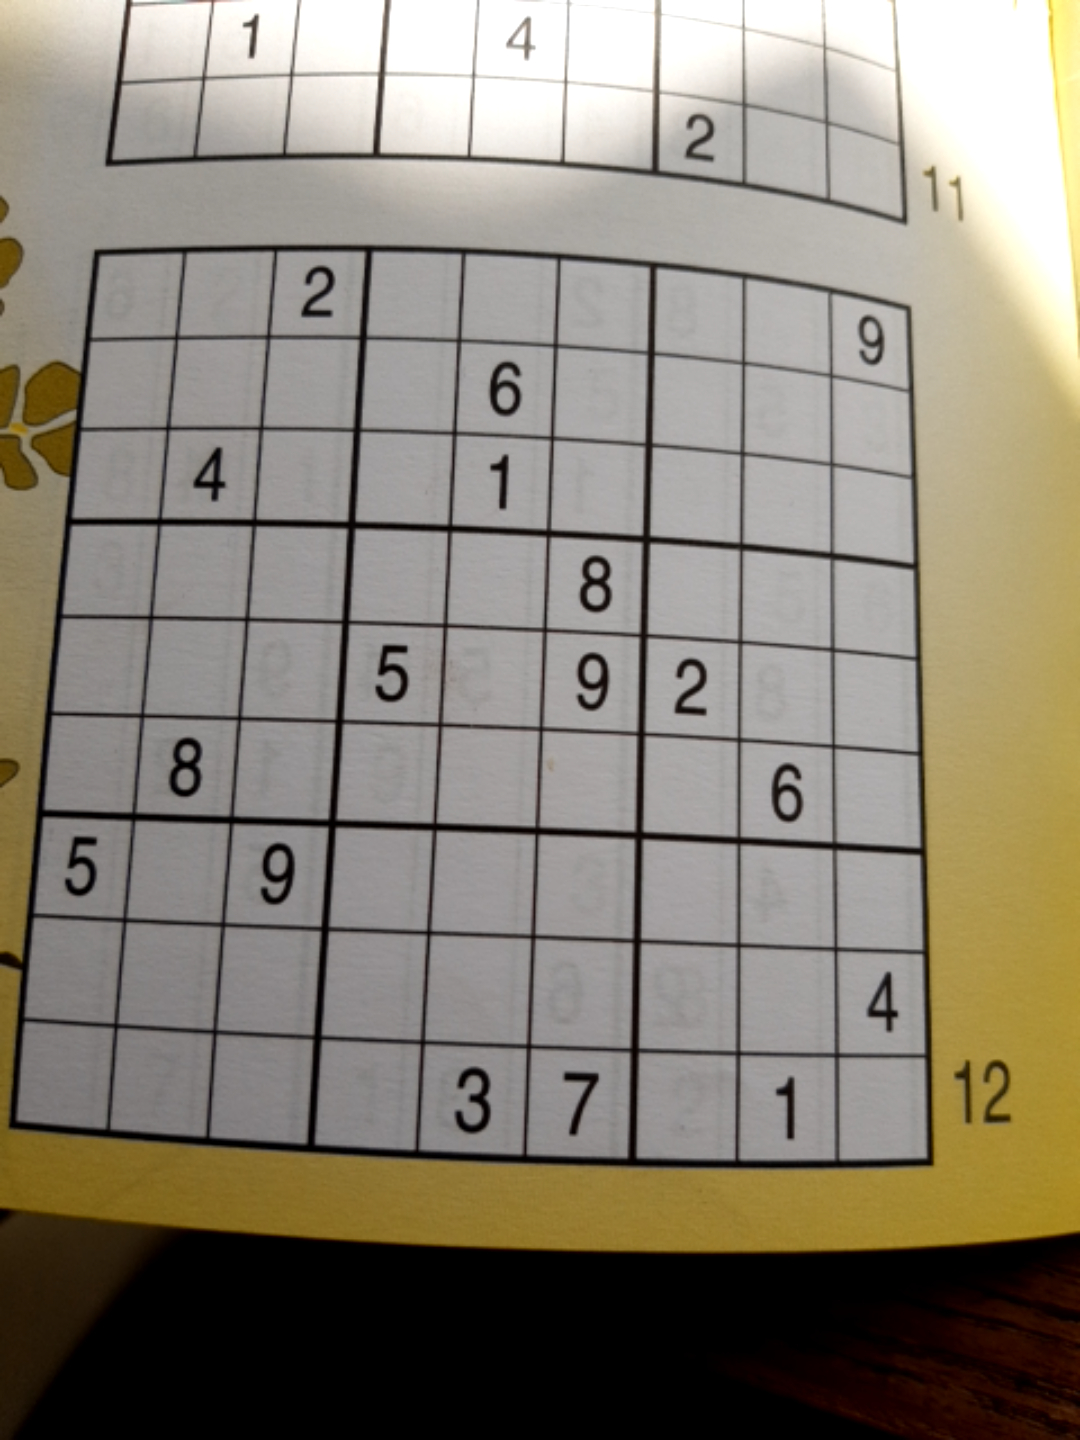sudoku: (4, 240, 936, 1168)
